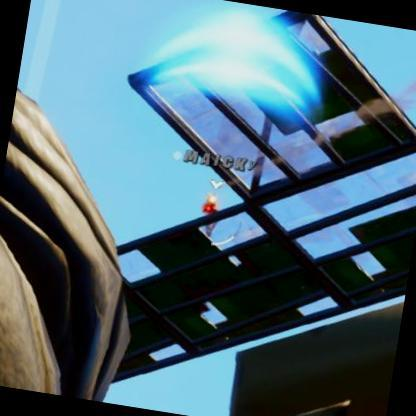person: (196, 189, 222, 247)
